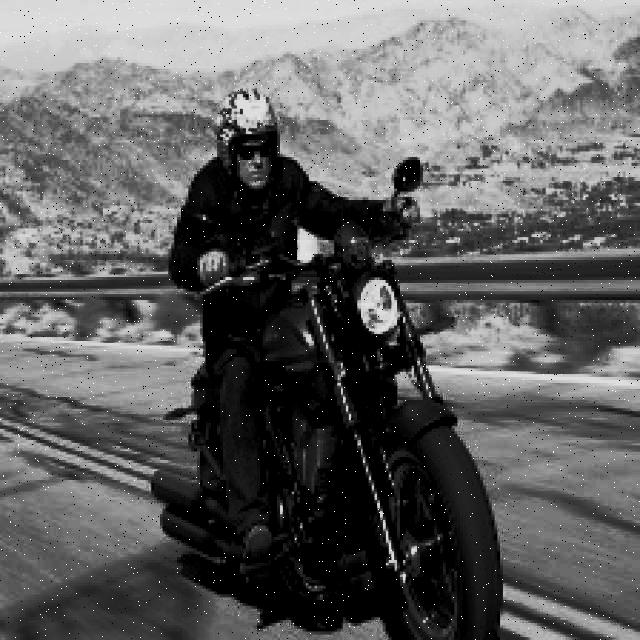Bike: (242, 249, 515, 639)
